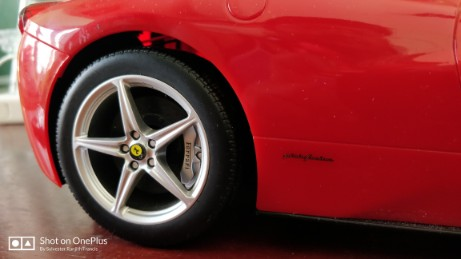aligned_wheel: (57, 49, 248, 235)
